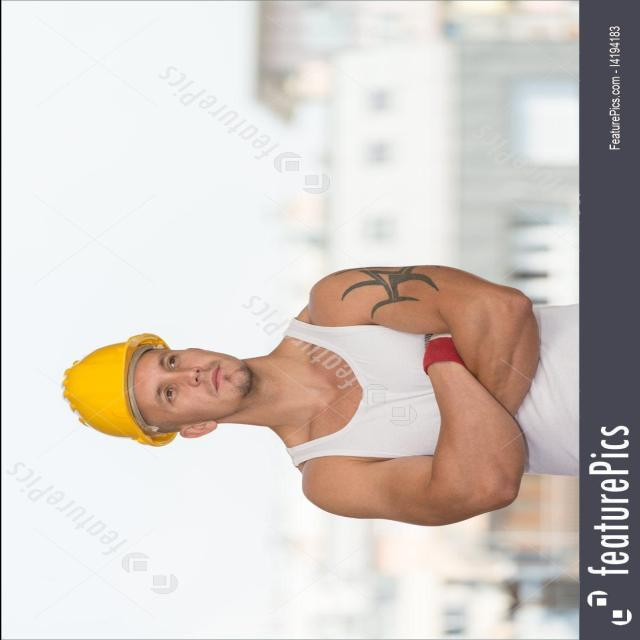helmet: (54, 325, 164, 458)
